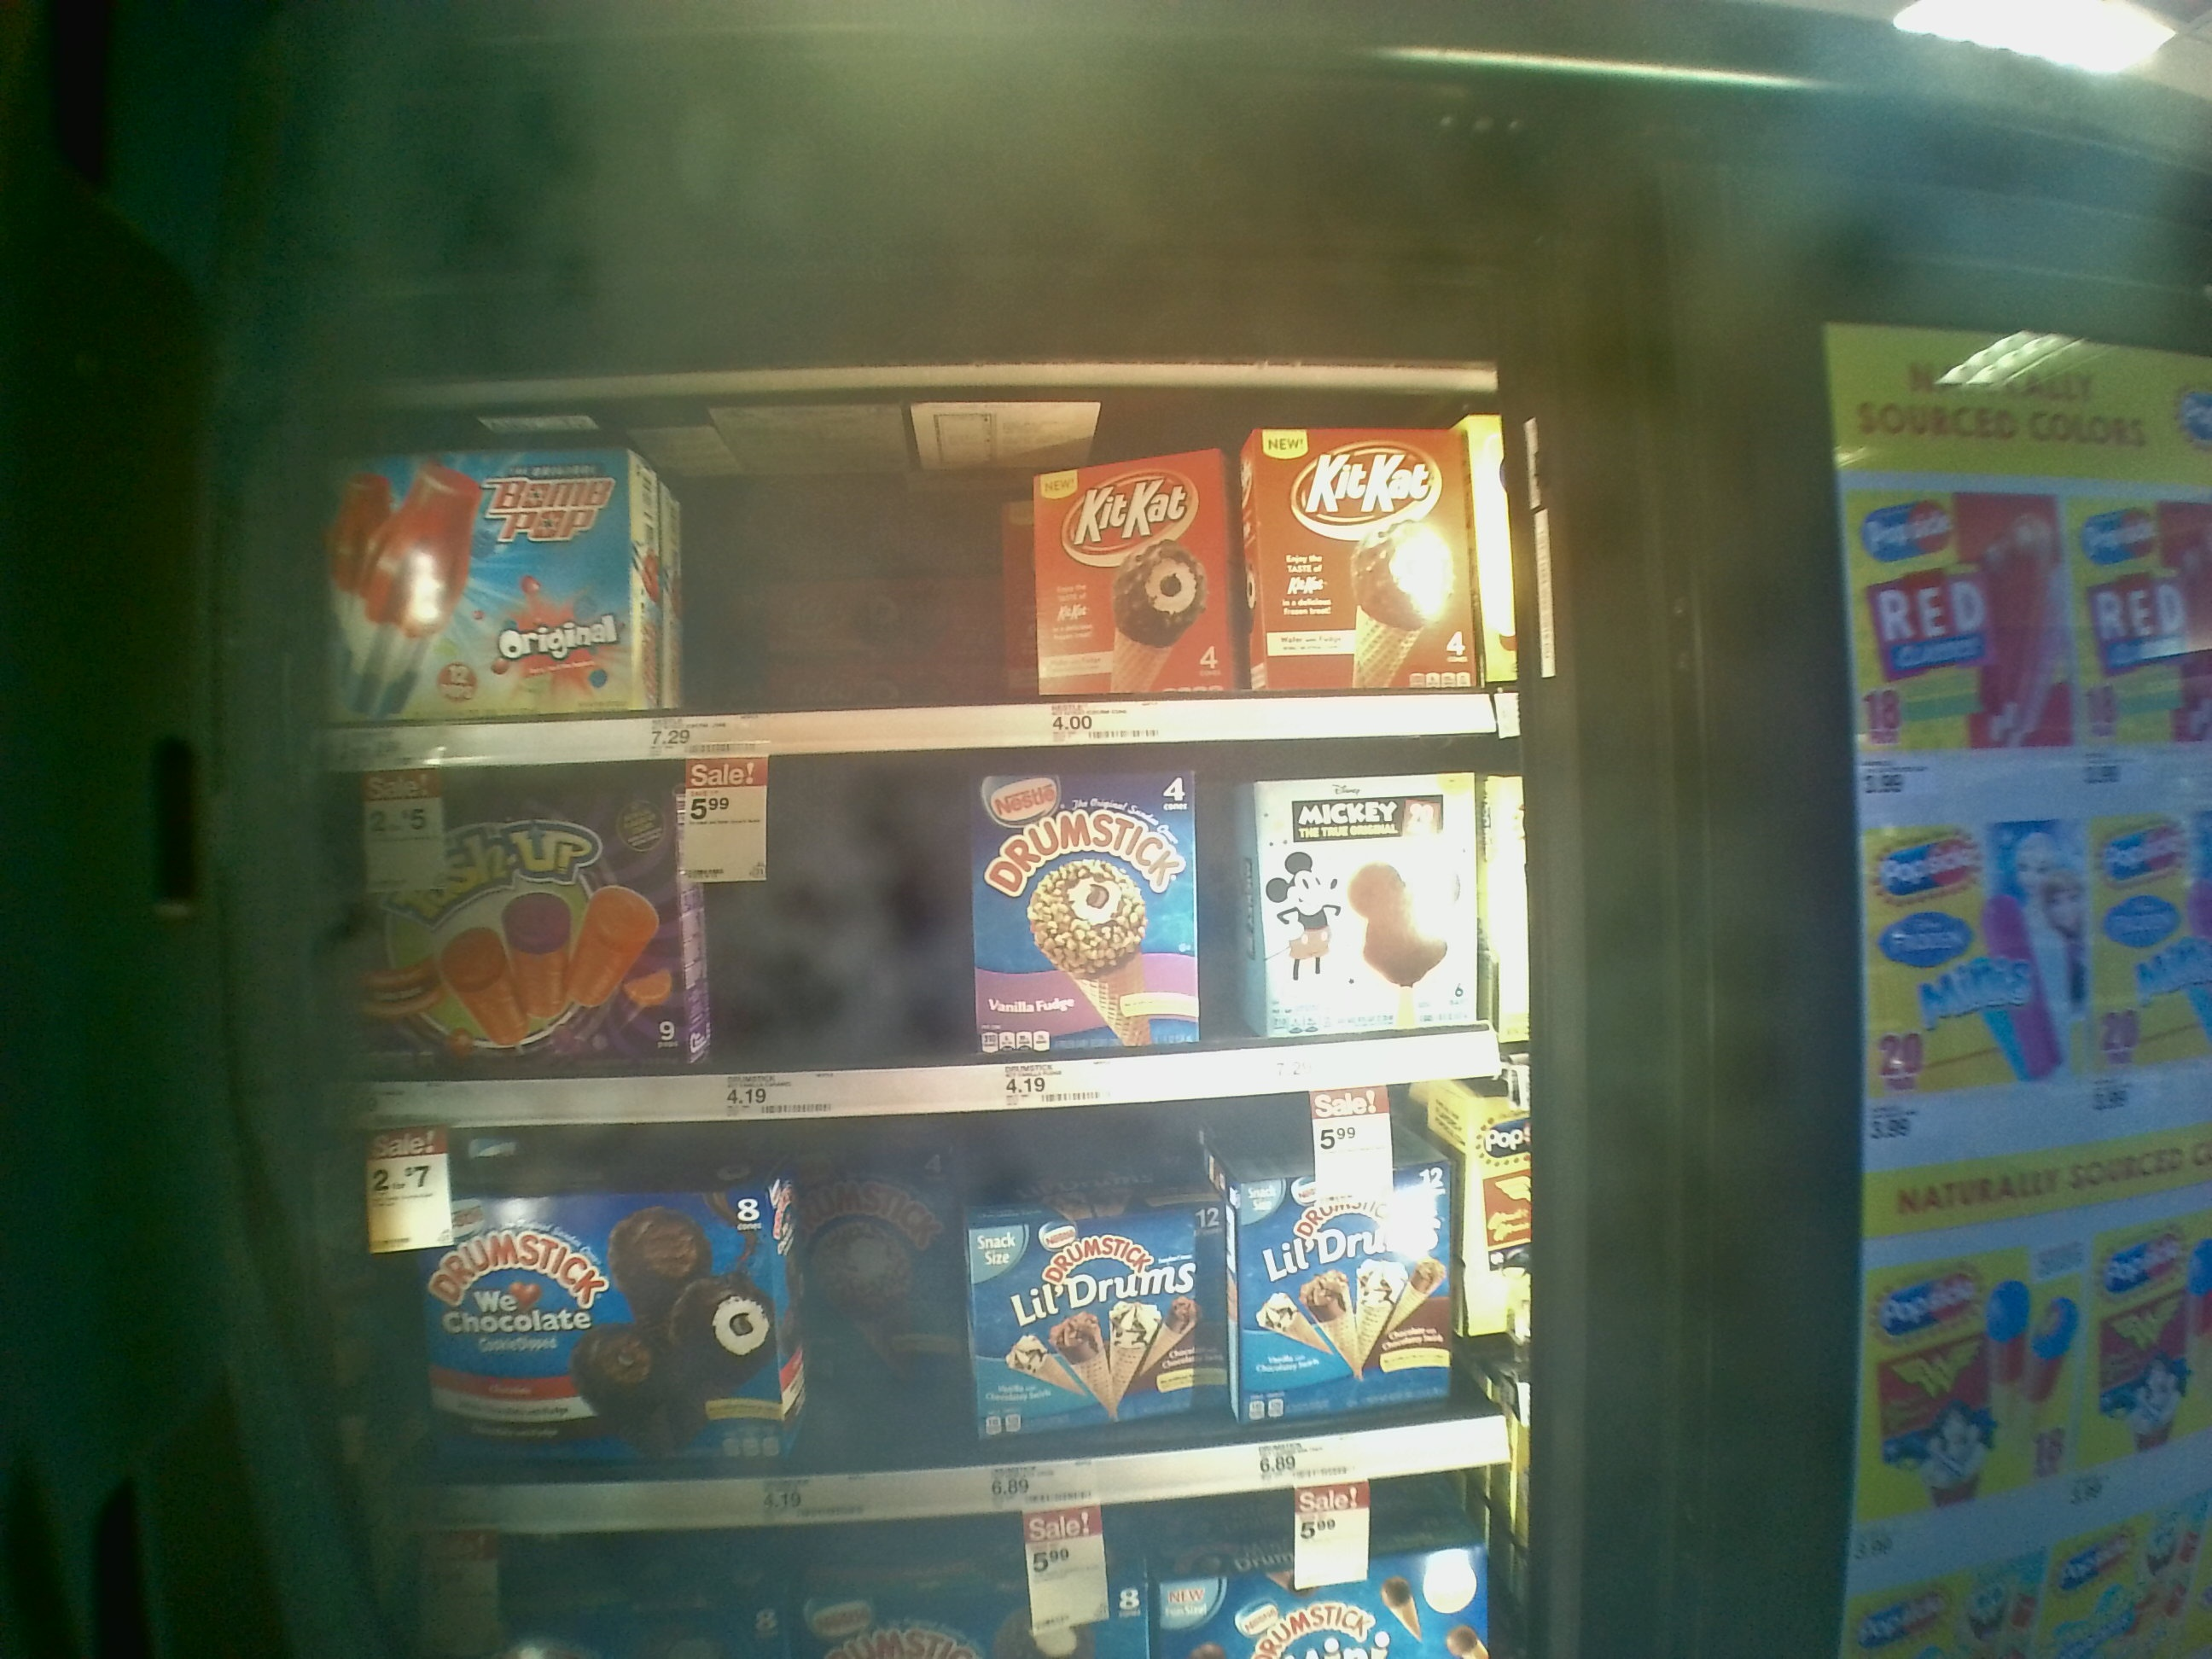ice-cream-shelf: (326, 744, 1543, 1122), (320, 382, 1529, 758)
